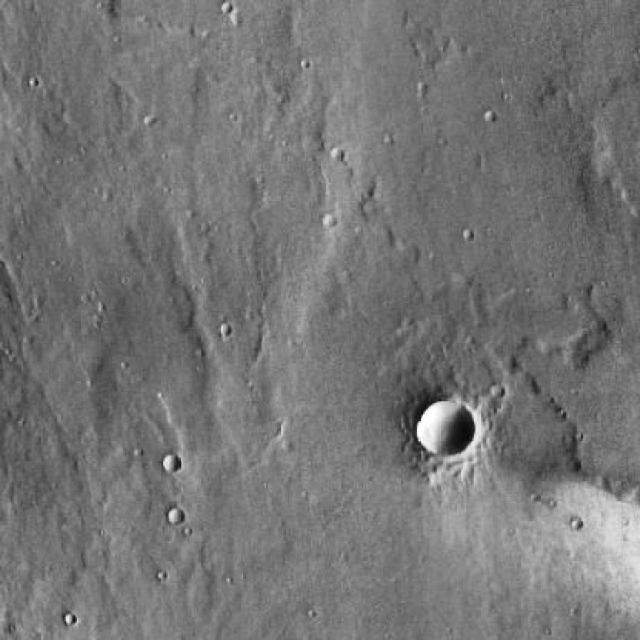crater: (417, 402, 475, 460), (161, 452, 182, 474), (165, 506, 184, 525)
